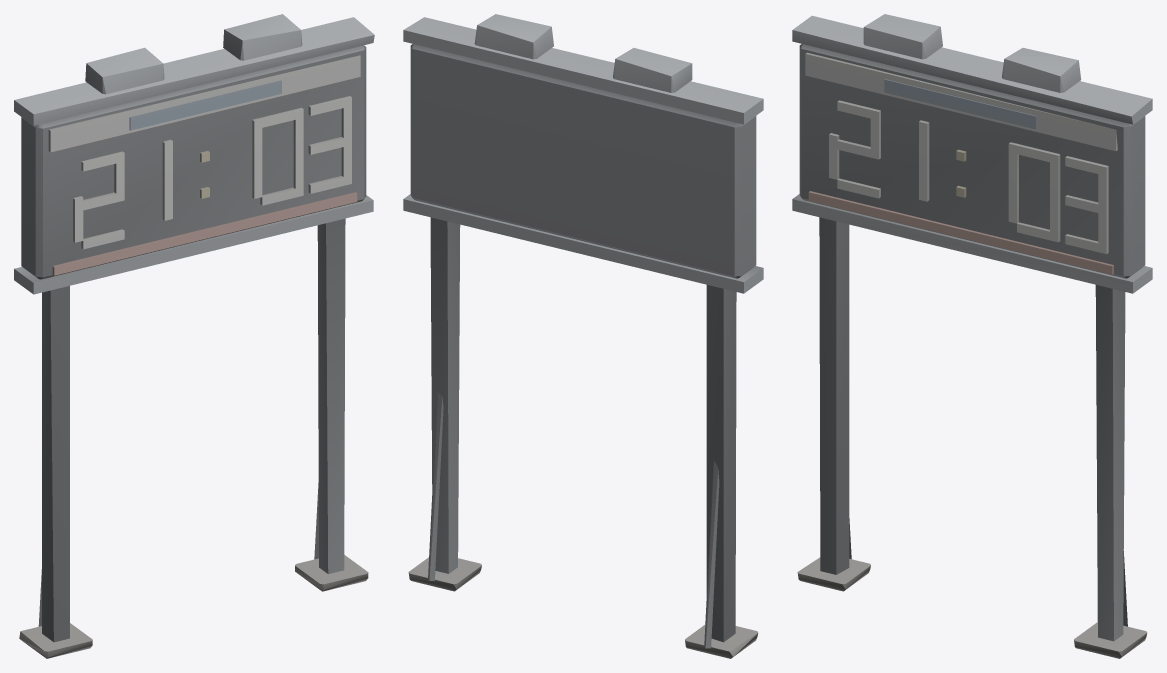
File: scoreboard.lod1.glb
The picture shows the model from 3 angles, left to right: view 1: azimuth 30°, elevation 25°; view 2: azimuth 150°, elevation 25°; view 3: azimuth 330°, elevation 25°; orthographic projection.
Size of the model in its own units: 4.93 by 7.86 by 0.7498.
